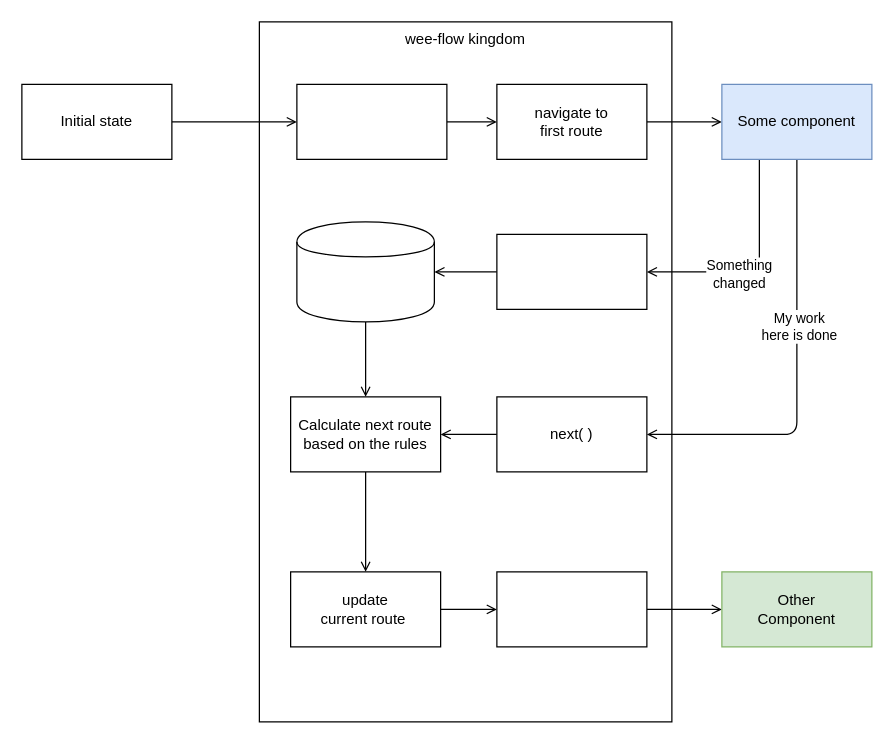
Image size: 894x744. Some labels were removed from this diagram. The shapes that lost their labels are listed below. From the top down, each one's centre as x and y in pixels, then its label:
At [371,121]: "start( )".
At [365,271]: "Shared domain data".
At [571,271]: "set( )".
At [571,609]: "navigate to the next route".
